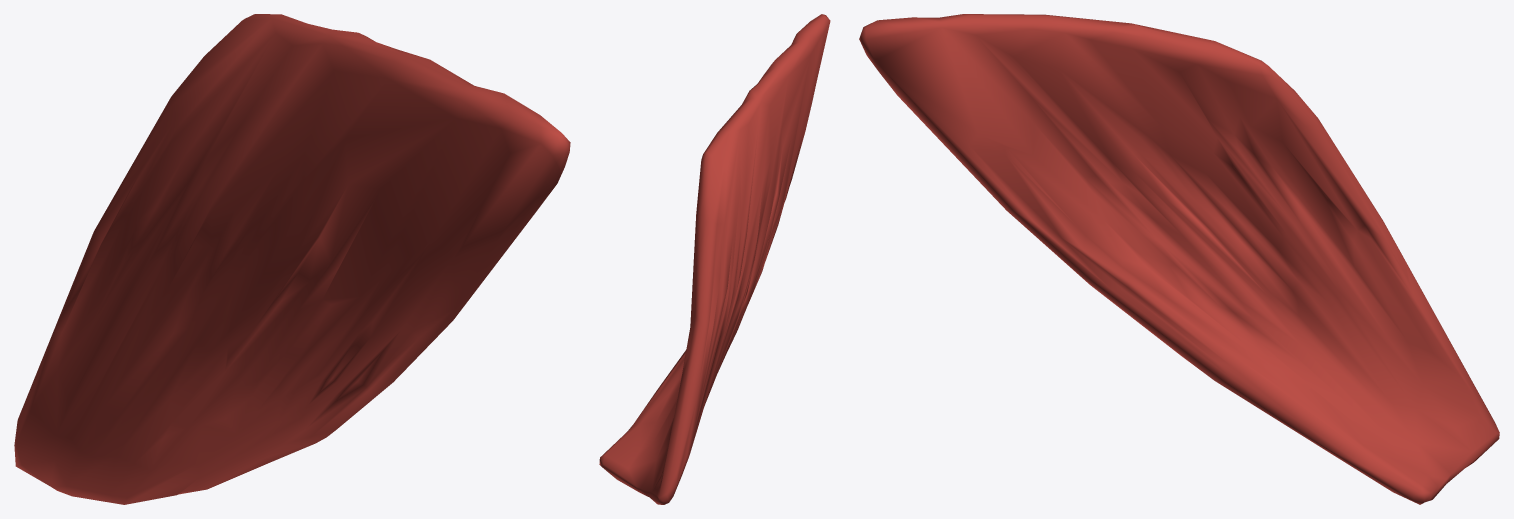
The model's file is musculos-hyoglossus-muscle-r.glb.
3 views of the same model, side by side, from view 1: azimuth 30°, elevation 25°; view 2: azimuth 150°, elevation 25°; view 3: azimuth 270°, elevation 25° (orthographic). The views are drawn at different scales.
Visible parts, largest first — view 1: Hyoglossus muscle.r; view 2: Hyoglossus muscle.r; view 3: Hyoglossus muscle.r.
Boxes of the visible parts, left/top/right/bottom form: Hyoglossus muscle.r: left=14, top=14, right=570, bottom=504; Hyoglossus muscle.r: left=599, top=14, right=830, bottom=504; Hyoglossus muscle.r: left=859, top=14, right=1499, bottom=504.
Bounding box in the file's own units: 0.00788 × 0.0253 × 0.0307.
